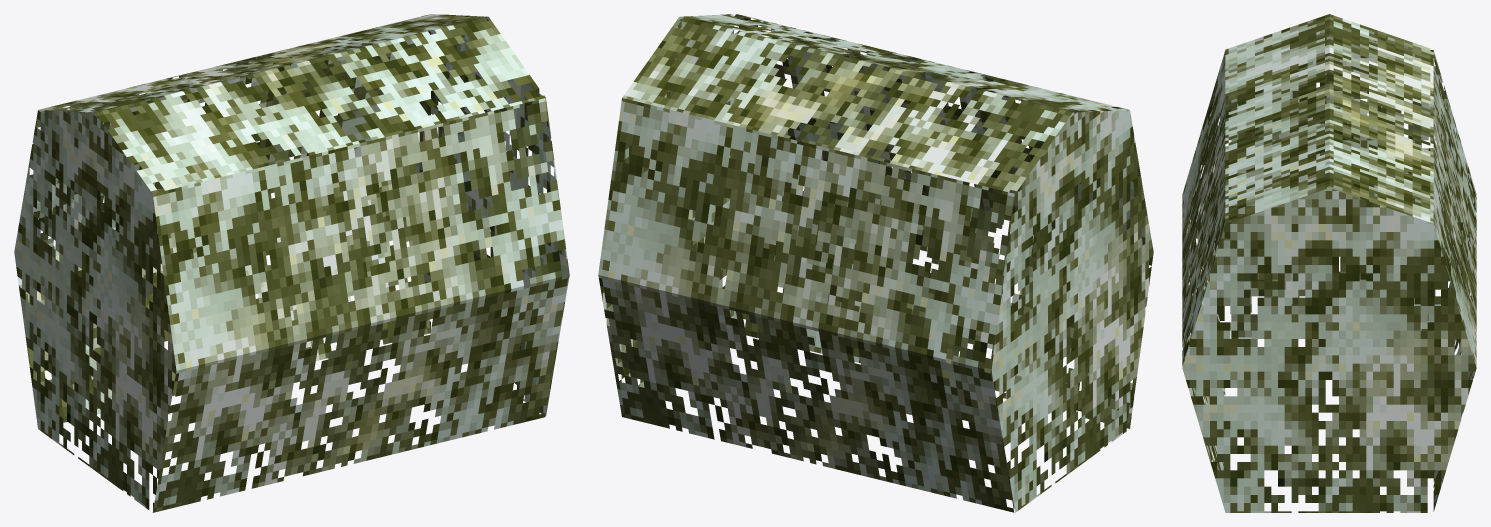
The model's file is bush_long_half_winter.glb.
3 renders of one model, left to right at view 1: azimuth 30°, elevation 25°; view 2: azimuth 150°, elevation 25°; view 3: azimuth 270°, elevation 25°, orthographic. The views are drawn at different scales.
Parts seen in each view (by area): view 1: bush_long_half_winter; view 2: bush_long_half_winter; view 3: bush_long_half_winter.
Part boxes in pixels (x1,y1,x2,y2): bush_long_half_winter: (14,14,569,512); bush_long_half_winter: (598,14,1153,512); bush_long_half_winter: (1182,14,1476,512).
Size of the model in its own units: 1.01 by 0.8765 by 0.7191.
1 material, 1 textured.
